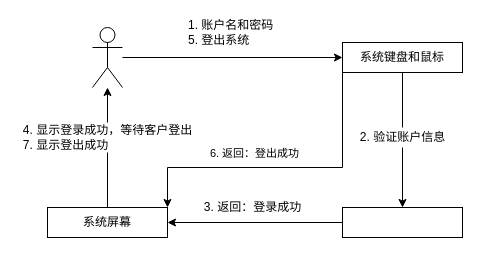
Image size: 480x255. Some labels were removed from this diagram. The shapes that lost their labels are listed below. From the top down, each one's centre as x and y in pixels, then its label:
the point at 107,57: 客户
the point at 402,222: 账户对象
